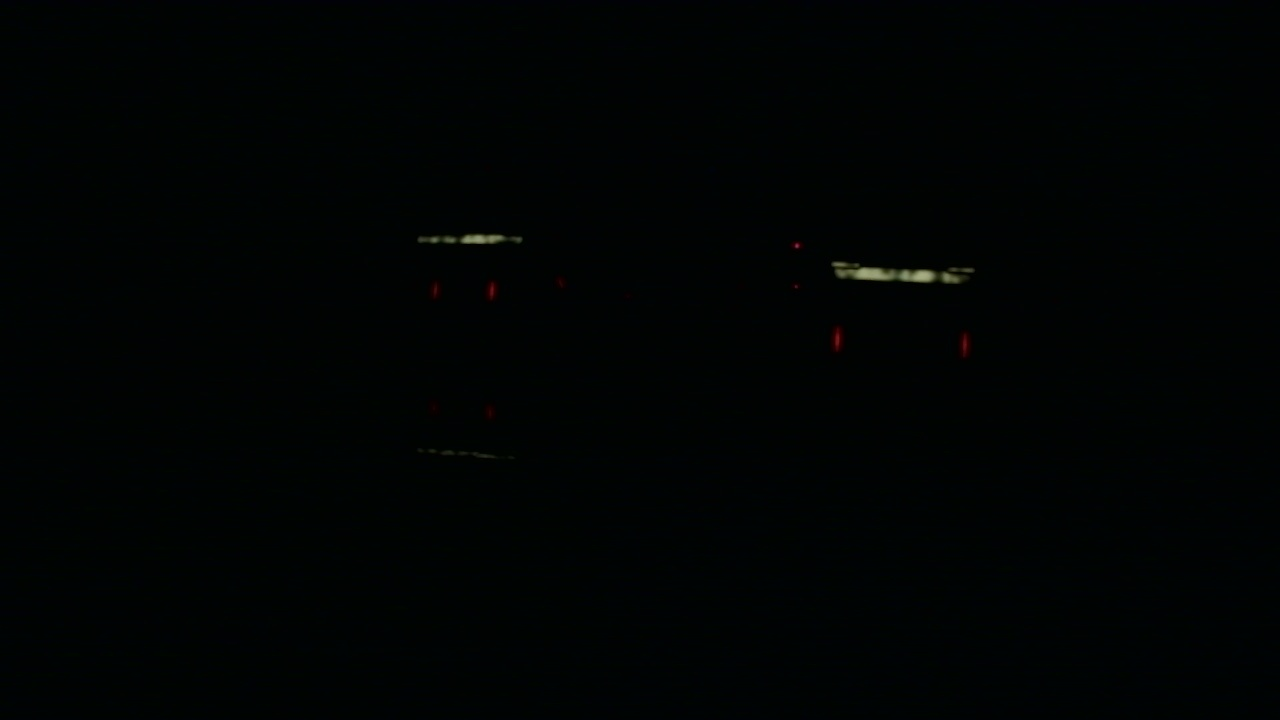lamp: (830, 320, 844, 352), (425, 276, 438, 302), (963, 324, 973, 354), (487, 276, 497, 298)
pair1: (430, 277, 498, 302)
pair2: (832, 323, 969, 355)
